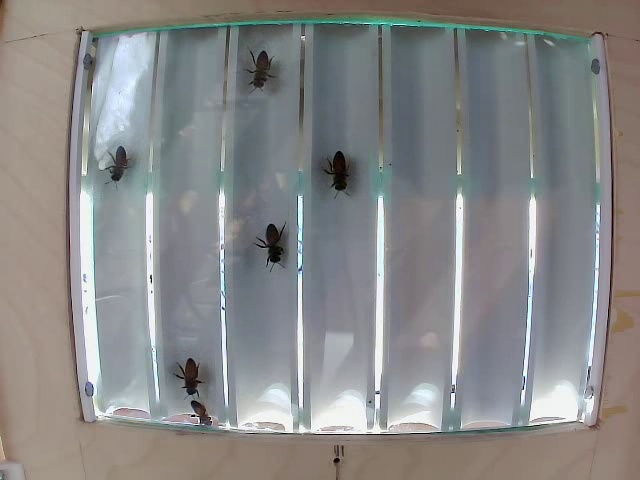bee: (240, 58, 285, 97), (261, 221, 290, 265), (317, 158, 352, 189), (101, 156, 134, 187), (175, 360, 204, 388)
